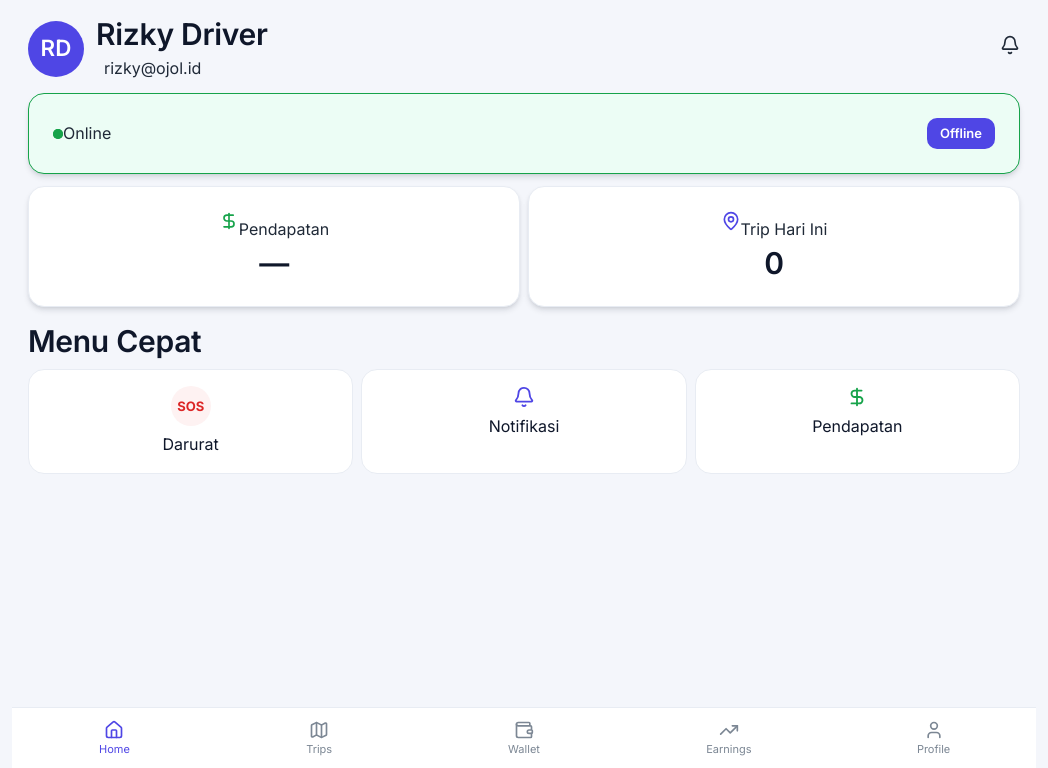
DriverApp › navigates to wallet tab
Expected: the heading "Rizky Driver" is shown, [96, 16, 268, 54]
Click the button "Wallet".
click(524, 738)  # box [422, 712, 626, 764]
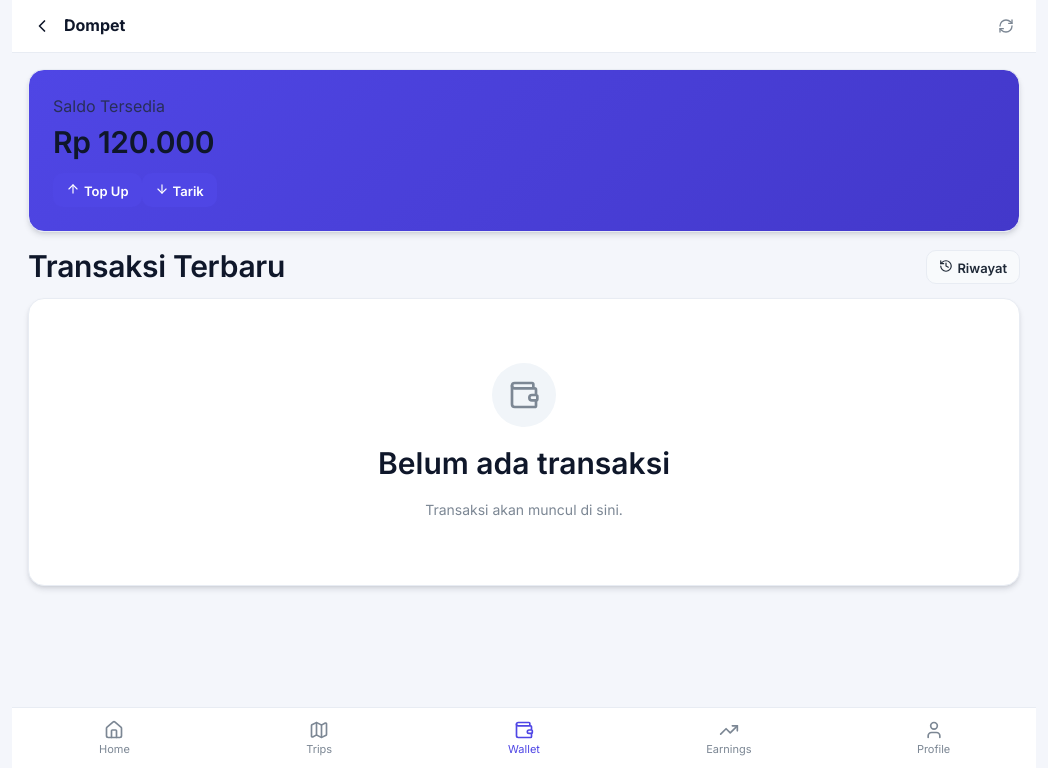
Expected: the heading "Dompet" is shown, [64, 15, 126, 35]
Expected: the text "Saldo Tersedia" is shown, [53, 96, 165, 116]
